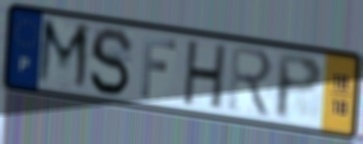F: (138, 33, 179, 101)
H: (180, 38, 230, 113)
M: (34, 15, 93, 95)
P: (274, 51, 325, 124)
R: (227, 43, 275, 122)
S: (87, 25, 136, 99)
